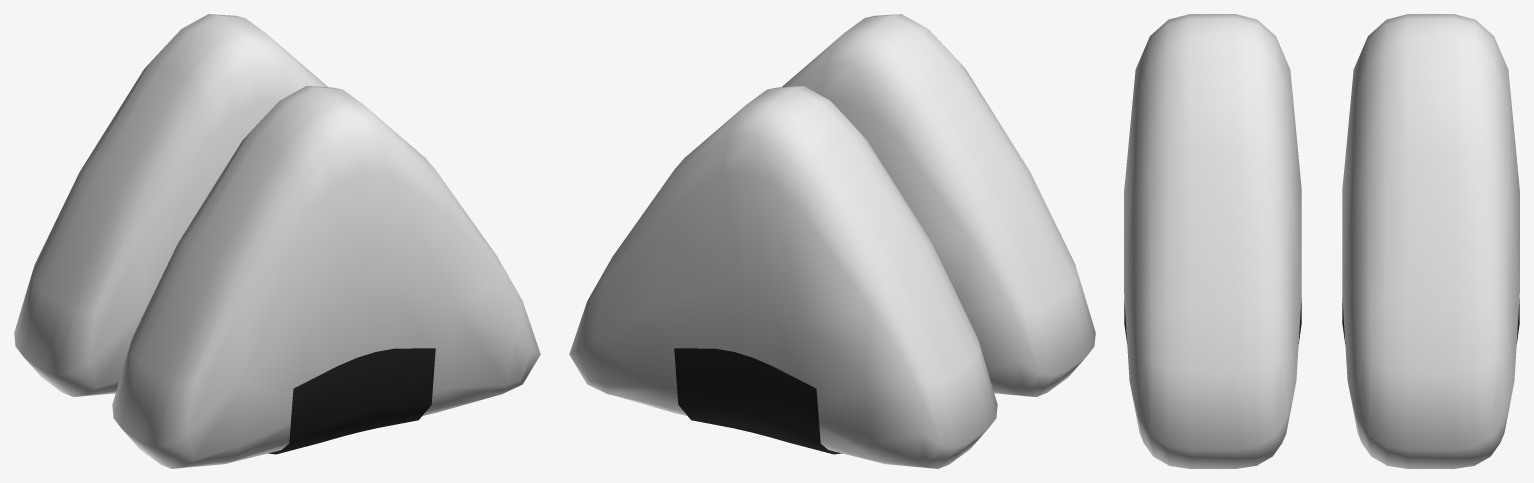
File: Food_Onigiri.glb
The picture shows the model from 3 angles, left to right: view 1: azimuth 30°, elevation 25°; view 2: azimuth 150°, elevation 25°; view 3: azimuth 270°, elevation 25°; orthographic projection. The views are drawn at different scales.
Visible parts, largest first — view 1: Food_Onigiri.001, Food_Onigiri; view 2: Food_Onigiri, Food_Onigiri.001; view 3: Food_Onigiri, Food_Onigiri.001.
Part boxes in pixels (x1,y1,x2,y2): Food_Onigiri.001: (112, 85, 540, 468); Food_Onigiri: (14, 14, 327, 396); Food_Onigiri: (569, 85, 997, 468); Food_Onigiri.001: (782, 14, 1095, 396); Food_Onigiri: (1342, 14, 1519, 468); Food_Onigiri.001: (1124, 14, 1301, 468).
Bounding box in the file's own units: 0.5856 × 0.4774 × 0.462.
Materials: 2 (2 with a texture image).
